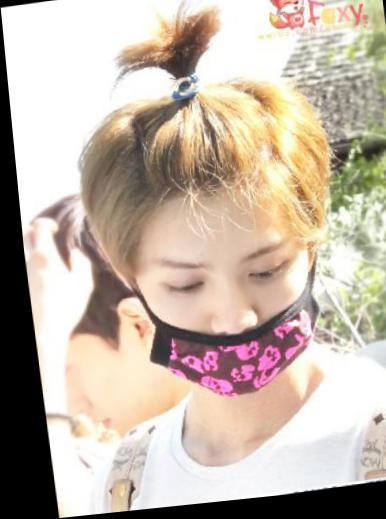WRONG: (128, 234, 306, 413)
